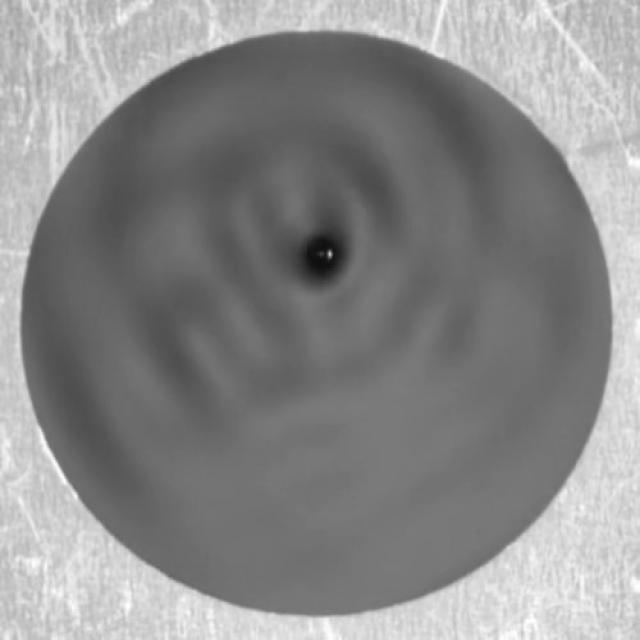droplet: (305, 236, 340, 277)
